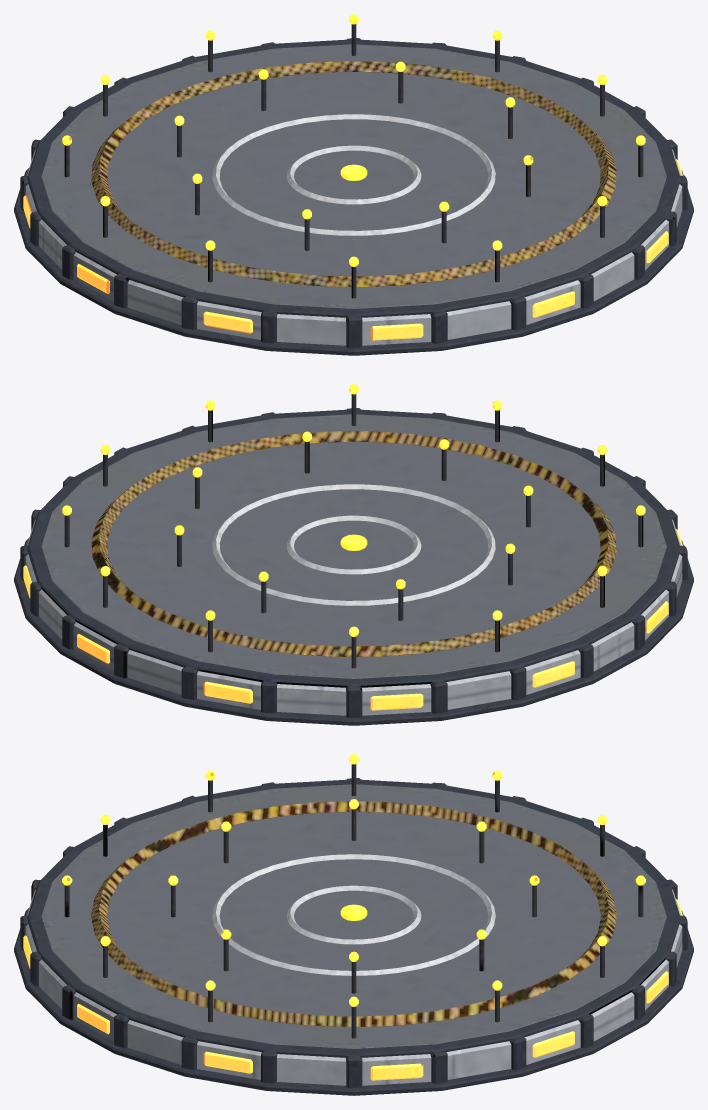
The model's file is landing-pad.glb.
The picture shows the model from 3 angles, top to bottom: view 1: azimuth 30°, elevation 25°; view 2: azimuth 150°, elevation 25°; view 3: azimuth 270°, elevation 25°; orthographic projection.
Parts seen in each view (by area): view 1: Deck, TargetRing0, DeckRim, Plinth, PlinthFoot, TargetRing1, TargetRing2, SideWindow16, SideWindow14, SideWindow18, Buttress17, Buttress16; view 2: Deck, TargetRing0, DeckRim, Plinth, PlinthFoot, TargetRing1, TargetRing2, SideWindow08, SideWindow06, SideWindow10, Buttress09, Buttress08; view 3: Deck, TargetRing0, DeckRim, Plinth, PlinthFoot, TargetRing1, TargetRing2, SideWindow00, SideWindow22, SideWindow02, Buttress01, Buttress00.
Part boxes in pixels (x1,y1,x2,y2): Deck: (41, 44, 666, 308); TargetRing0: (91, 61, 616, 286); DeckRim: (27, 39, 680, 317); Plinth: (25, 149, 682, 345); PlinthFoot: (14, 168, 693, 355); TargetRing1: (212, 114, 495, 235); TargetRing2: (286, 145, 421, 204); SideWindow16: (370, 323, 423, 340); SideWindow14: (203, 311, 252, 333); SideWindow18: (532, 291, 574, 317); Buttress17: (430, 310, 447, 343); Buttress16: (346, 316, 362, 347); Deck: (41, 414, 666, 678); TargetRing0: (91, 431, 616, 656); DeckRim: (27, 409, 680, 687); Plinth: (25, 519, 682, 715); PlinthFoot: (14, 538, 693, 725); TargetRing1: (212, 484, 495, 605); TargetRing2: (286, 515, 421, 574); SideWindow08: (370, 693, 423, 710); SideWindow06: (203, 681, 252, 703); SideWindow10: (532, 661, 574, 687); Buttress09: (430, 680, 447, 713); Buttress08: (346, 686, 362, 717); Deck: (41, 784, 666, 1048); TargetRing0: (91, 801, 616, 1027); DeckRim: (27, 779, 680, 1057); Plinth: (25, 889, 682, 1085); PlinthFoot: (14, 908, 693, 1095); TargetRing1: (212, 854, 495, 975); TargetRing2: (286, 885, 421, 944); SideWindow00: (370, 1063, 423, 1080); SideWindow22: (203, 1051, 252, 1073); SideWindow02: (532, 1031, 574, 1057); Buttress01: (430, 1050, 447, 1083); Buttress00: (346, 1056, 362, 1087).
Size of the model in its own units: 12.8 by 1.6 by 12.8.
Materials: 7 (7 with a texture image).
